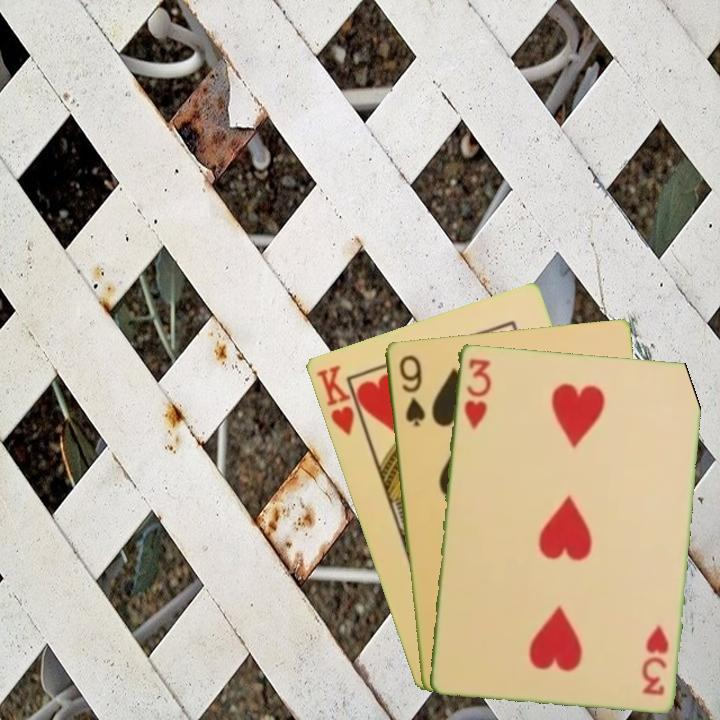3h: (638, 621, 672, 698), (460, 354, 493, 432)
9s: (395, 351, 428, 429)
Kh: (312, 361, 368, 439)
